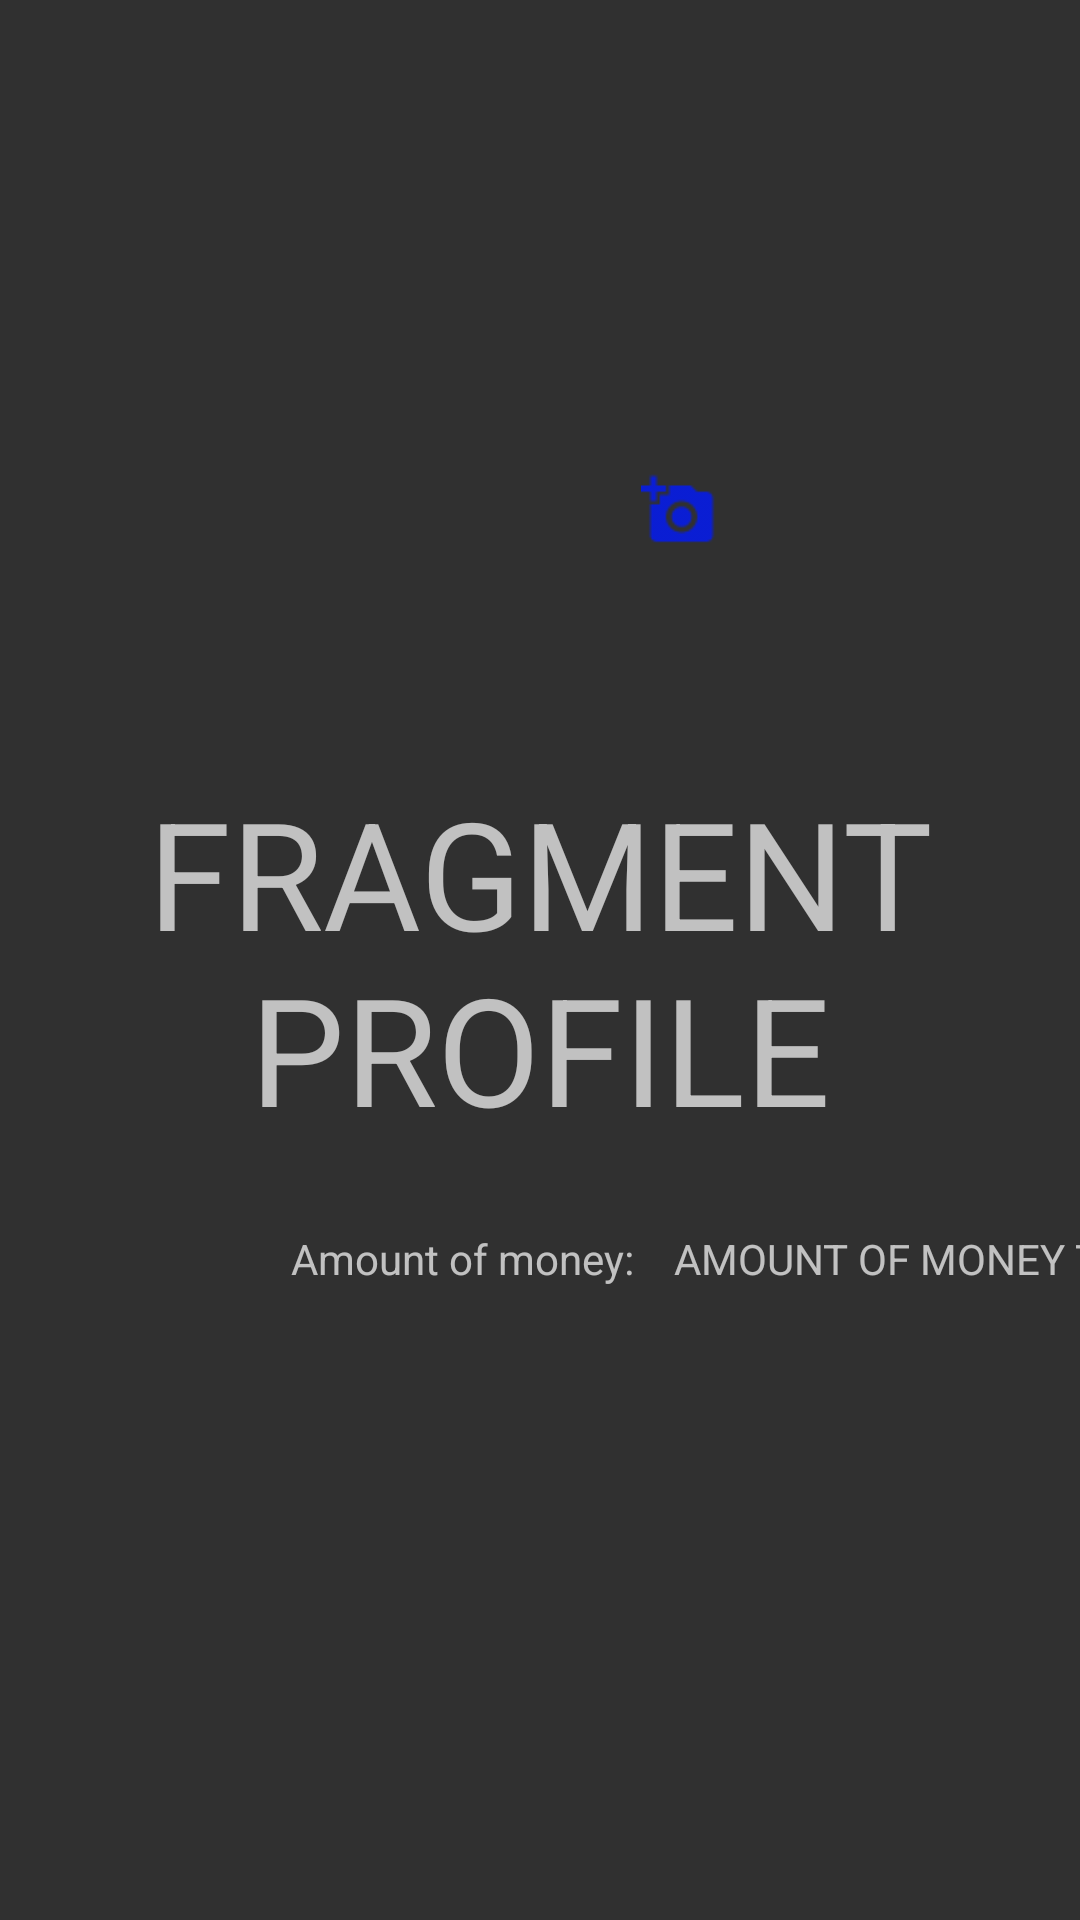

Where icons sit on this 1080x1920 app screen, as (x1, y1, x2, y2):
add photo: (641, 475, 714, 542)
